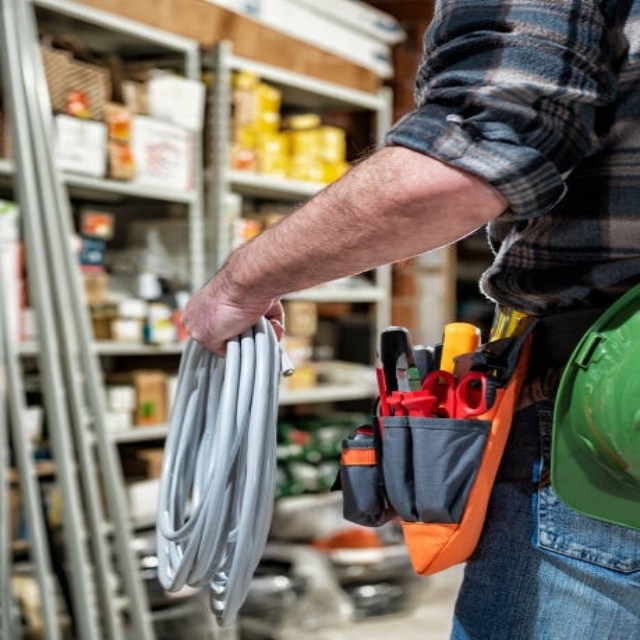Sin_guantes: (181, 276, 288, 360)
